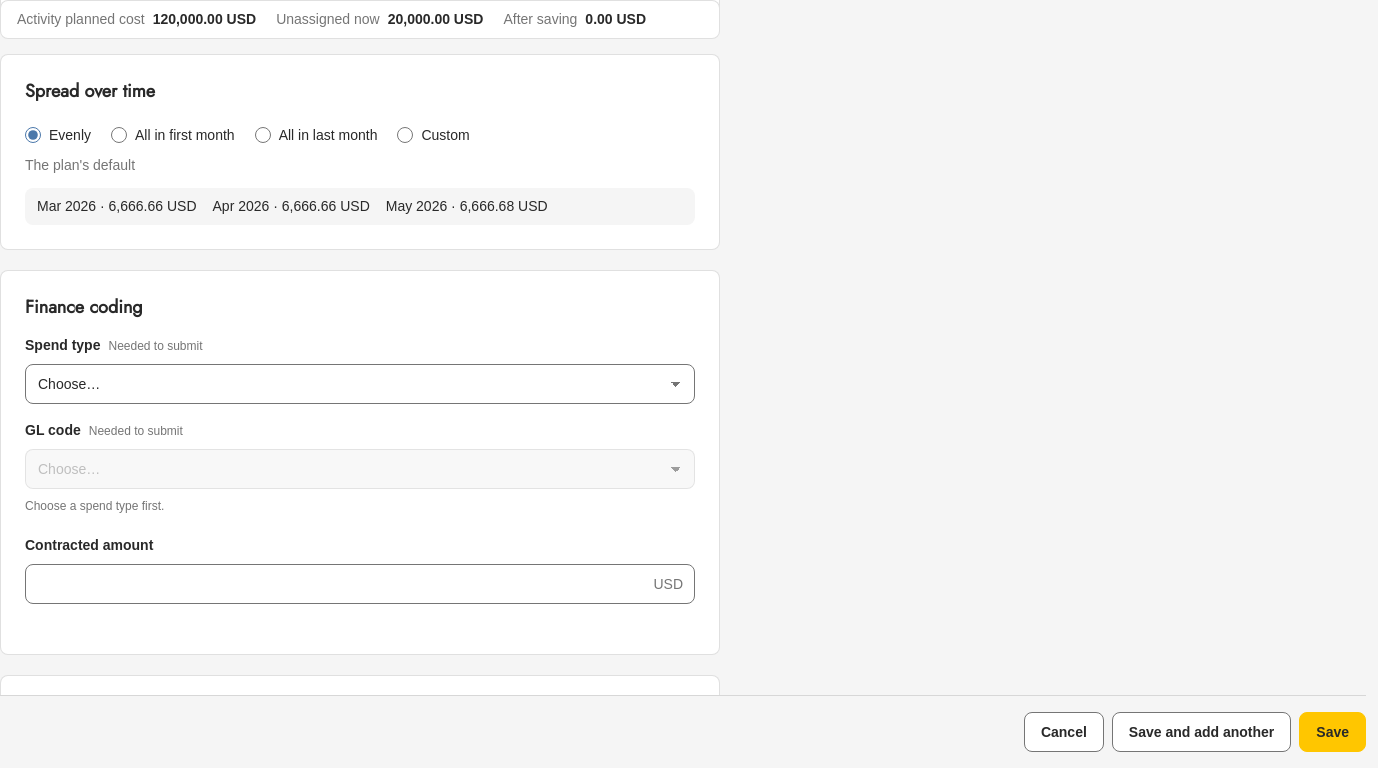
LineItemCreatePage (US2) › fills in the only GL code of a spend type (scenario 3)
(page scrolled)
Select "BTL – Event" in the dropdown labelled "Spend type": x=360, y=384 [25, 364, 695, 404]
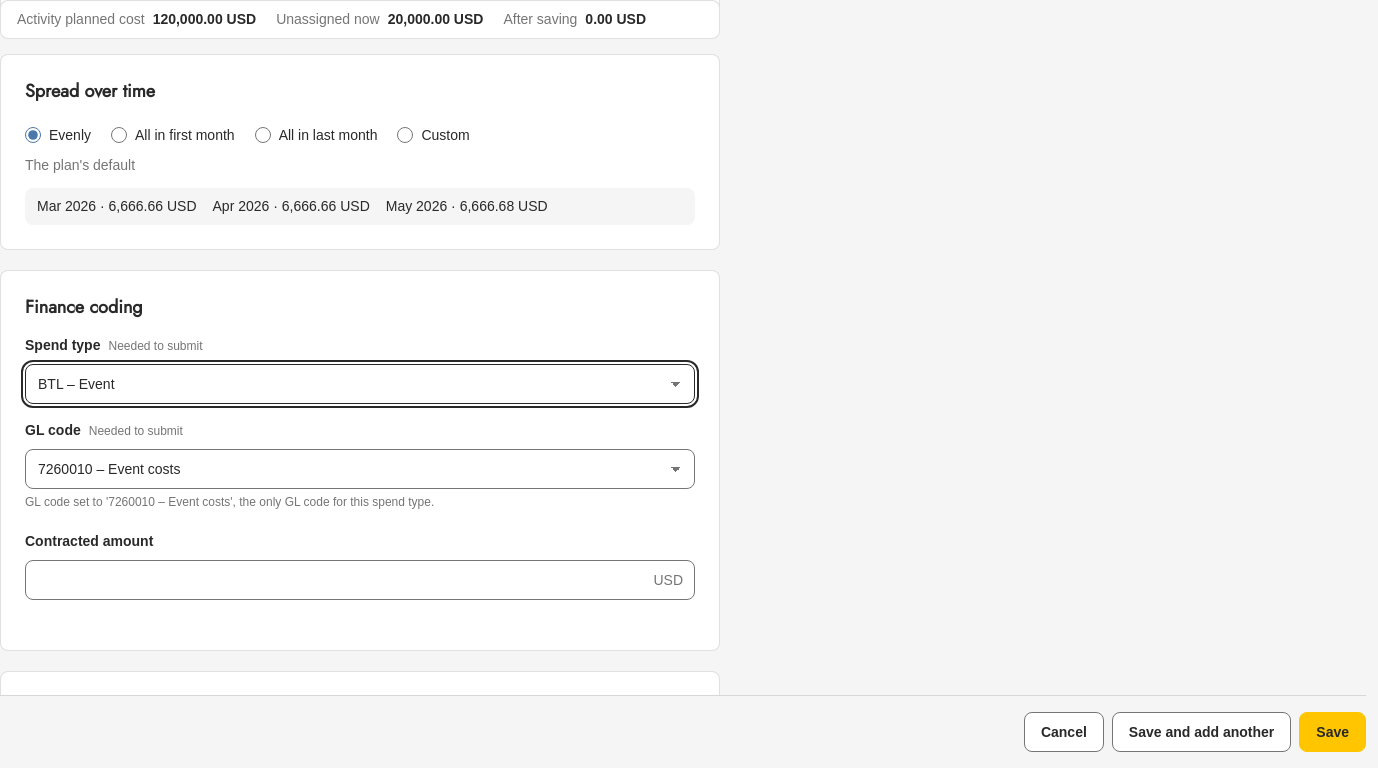
Check: the dropdown labelled "GL code" shows "7260010 – Event costs", box [25, 449, 695, 489]
